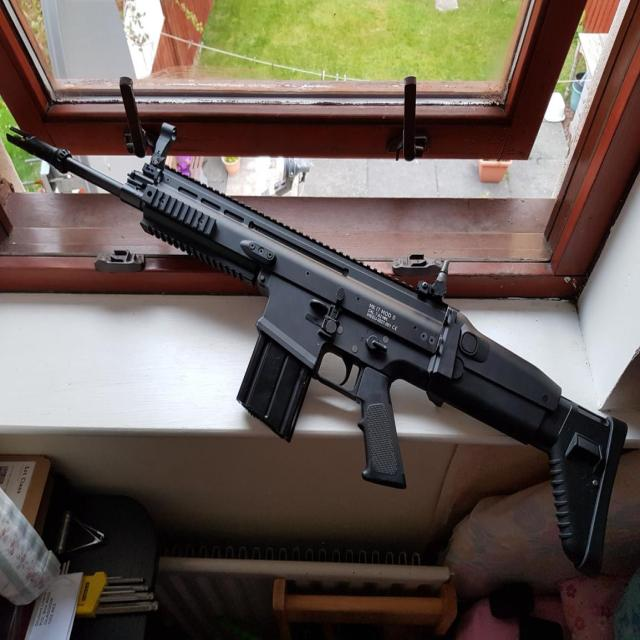Gun: (6, 87, 632, 604)
